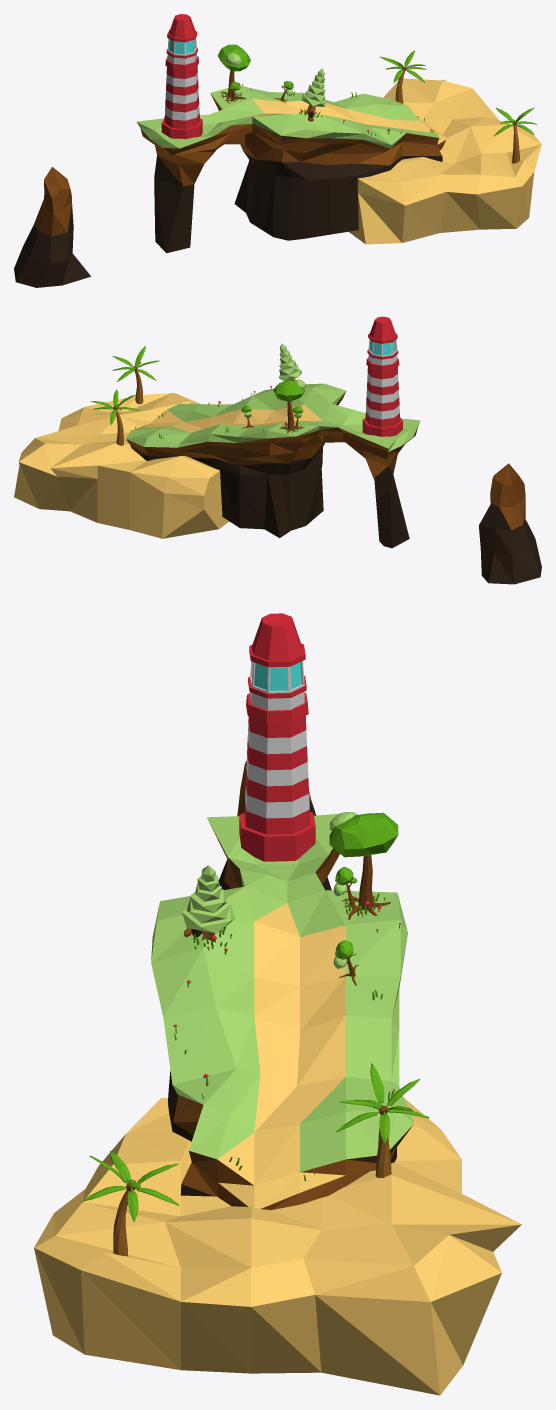
The model's file is Island_01.fbx.
3 renders of one model, top to bottom at view 1: azimuth 30°, elevation 25°; view 2: azimuth 150°, elevation 25°; view 3: azimuth 270°, elevation 25°, orthographic. The views are drawn at different scales.
Visible parts, largest first — view 1: Island_01_Comb; view 2: Island_01_Comb; view 3: Island_01_Comb.
Boxes of the visible parts, x1,y1,x2,y2 form: Island_01_Comb: [14, 14, 541, 287]; Island_01_Comb: [14, 316, 541, 584]; Island_01_Comb: [34, 613, 521, 1395].
Size of the model in its own units: 79.23 by 35.84 by 34.37.
